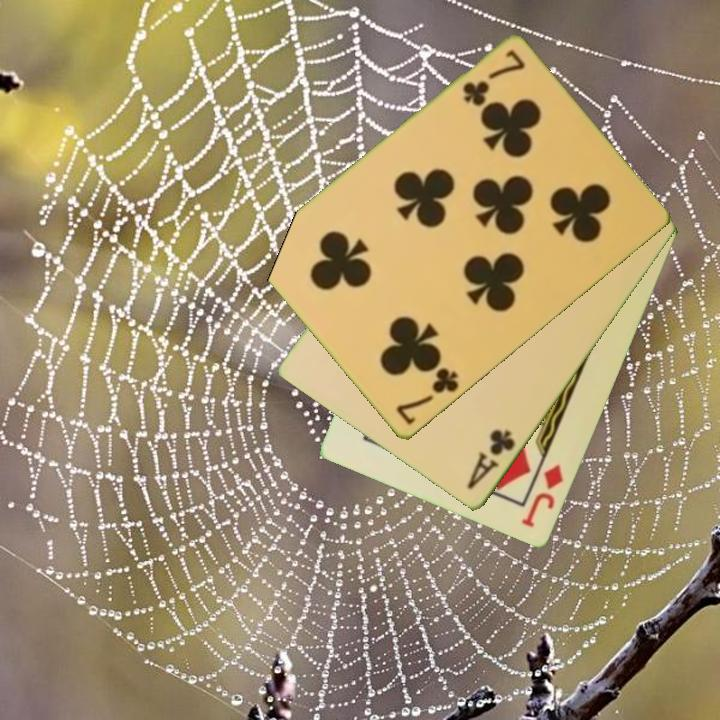7c: (392, 364, 462, 429), (458, 47, 528, 110)
Ac: (463, 426, 519, 493)
Jd: (518, 461, 567, 532)
